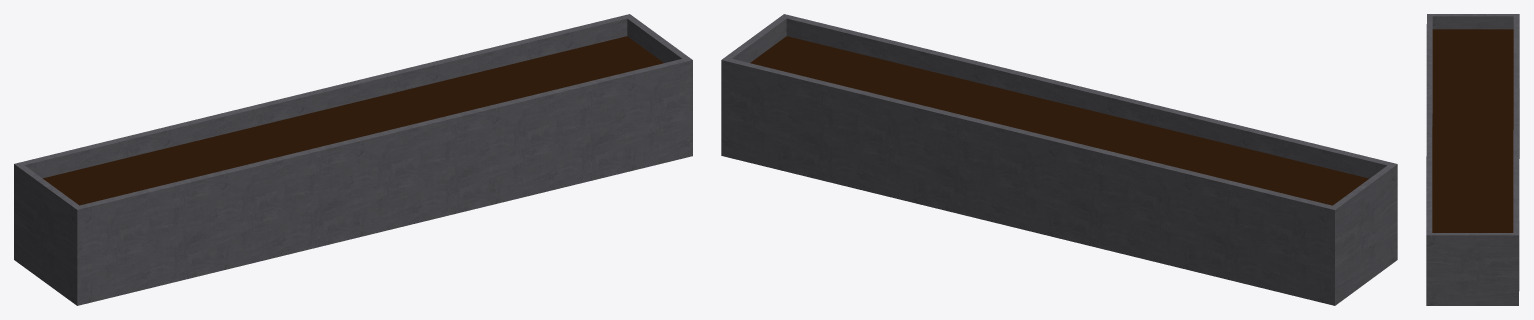
The model's file is Planter_A.glb.
3 views of the same model, side by side, from view 1: azimuth 30°, elevation 25°; view 2: azimuth 150°, elevation 25°; view 3: azimuth 270°, elevation 25° (orthographic). The views are drawn at different scales.
Visible parts, largest first — view 1: Planter_A; view 2: Planter_A; view 3: Planter_A.
Boxes of the visible parts, left/top/right/bottom form: Planter_A: left=14, top=14, right=692, bottom=305; Planter_A: left=721, top=14, right=1397, bottom=305; Planter_A: left=1426, top=14, right=1519, bottom=305.
Bounding box in the file's own units: 2.83 × 0.4222 × 0.5052.
2 materials, 2 textured.
